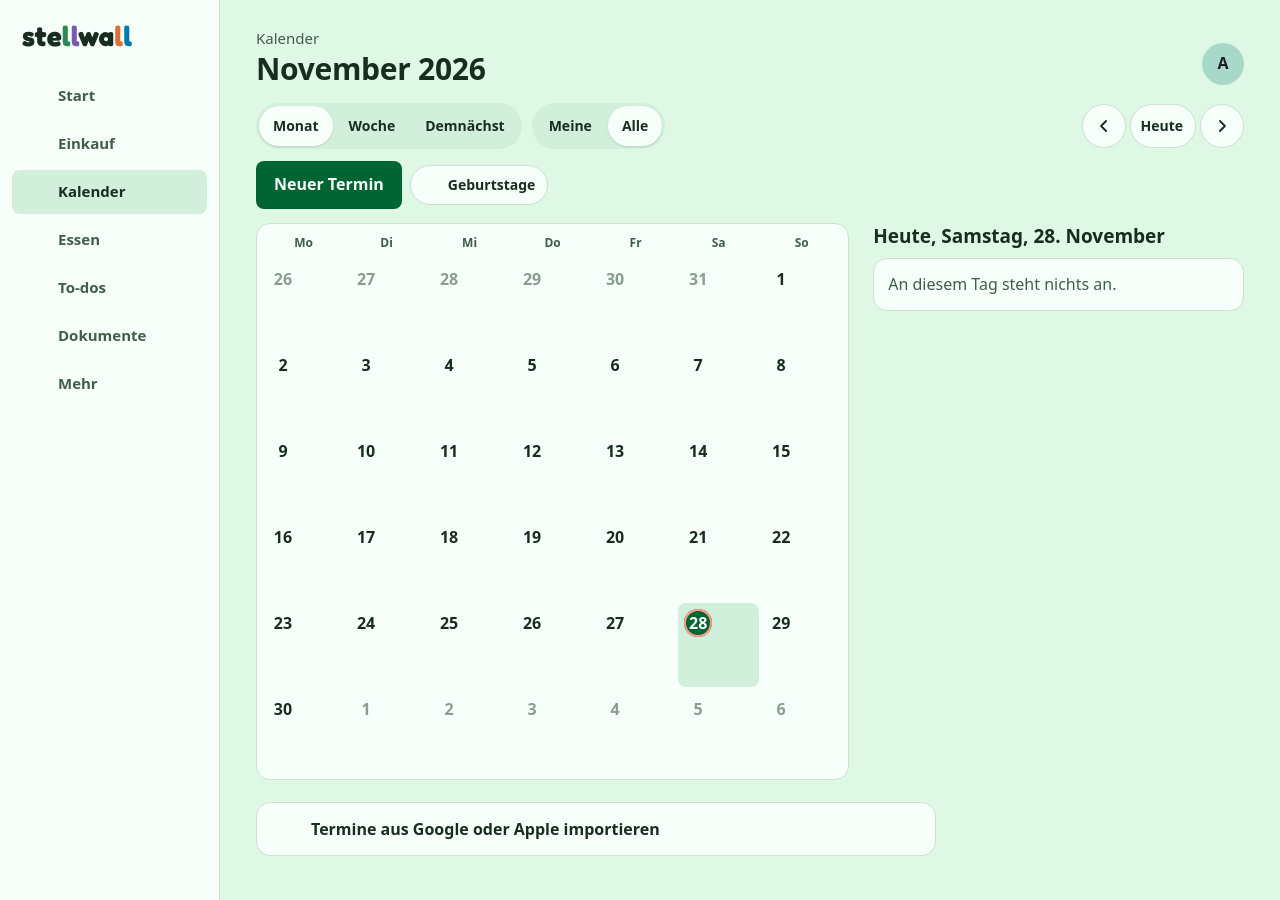
Scenario: compact week › an empty week says so once
This screenshot has width=1280, height=900.
Click the button "Woche".
click(372, 126)  # box [335, 106, 409, 146]
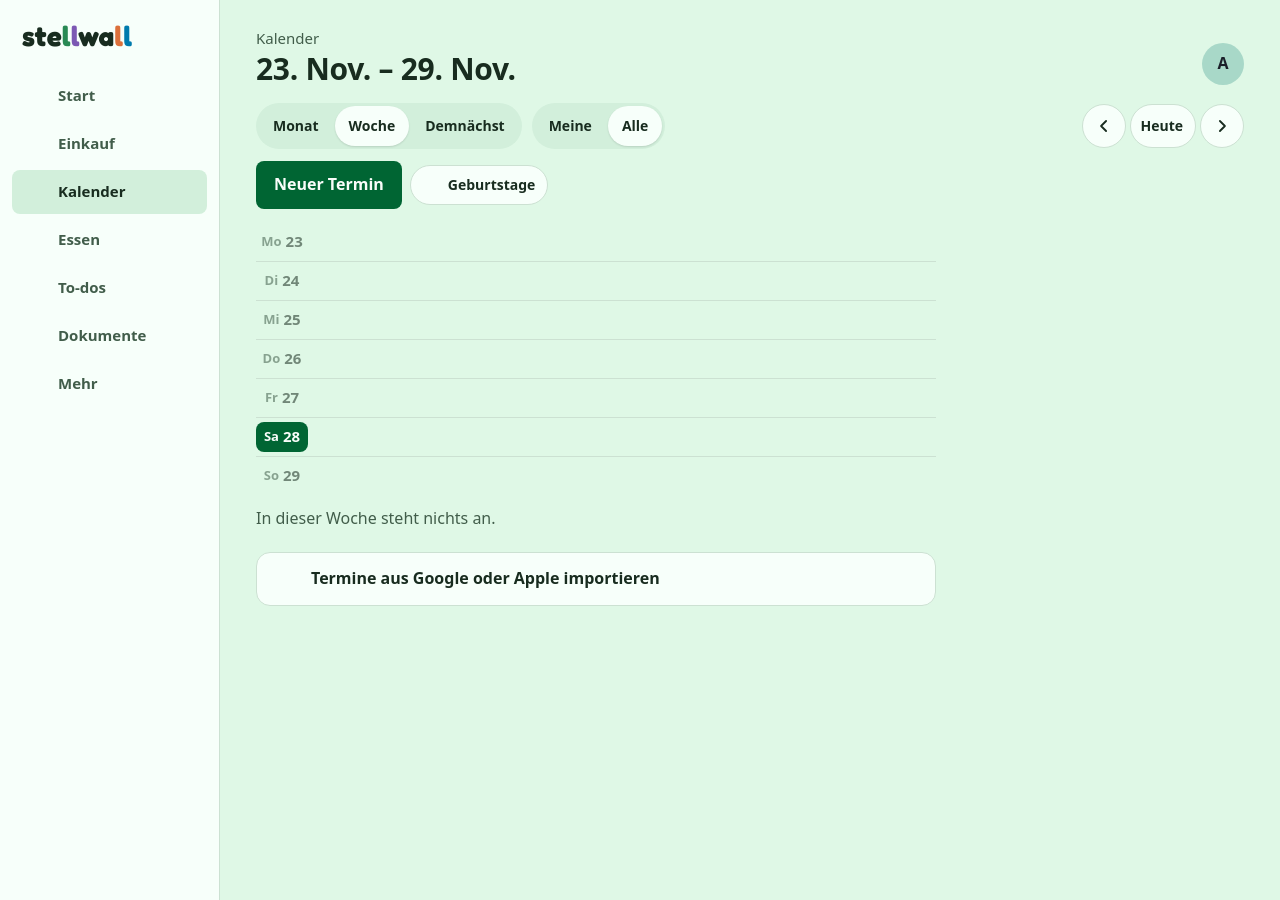
Result: the text "In dieser Woche steht nichts an." is shown at [256, 507, 496, 529]
